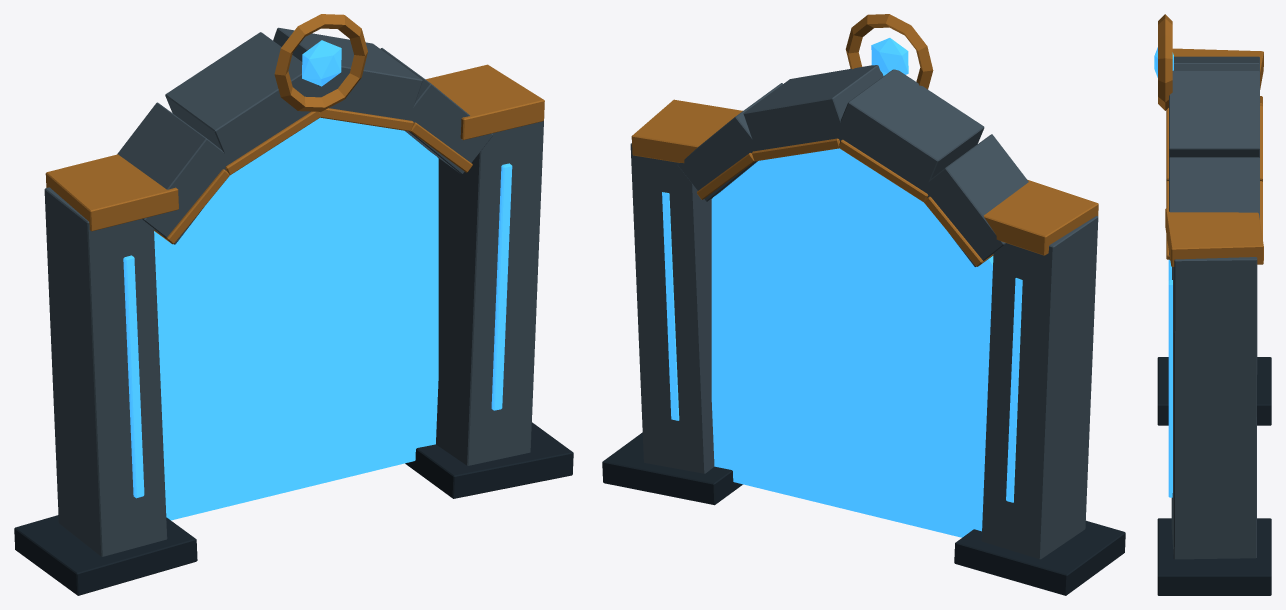
Rendered from portal_saved_world_LOD2.glb.
The picture shows the model from 3 angles, left to right: view 1: azimuth 30°, elevation 25°; view 2: azimuth 150°, elevation 25°; view 3: azimuth 270°, elevation 25°; orthographic projection. The views are drawn at different scales.
Visible parts, largest first — view 1: portal_saved_world_LOD2; view 2: portal_saved_world_LOD2; view 3: portal_saved_world_LOD2.
Boxes of the visible parts, x1,y1,x2,y2 form: portal_saved_world_LOD2: [14, 14, 573, 595]; portal_saved_world_LOD2: [602, 14, 1125, 595]; portal_saved_world_LOD2: [1154, 14, 1271, 595].
Bounding box in the file's own units: 5.37 × 5.35 × 1.21.
